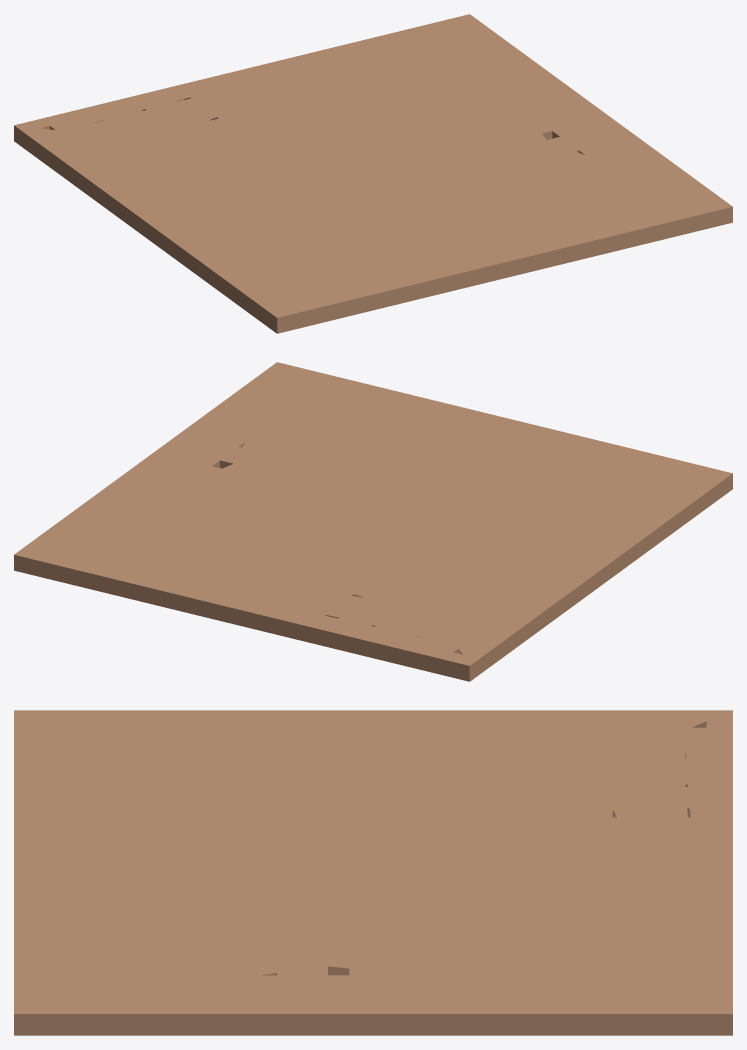
The model's file is spikeTrapBase.fbx.
3 views of the same model, one above another, from view 1: azimuth 30°, elevation 25°; view 2: azimuth 150°, elevation 25°; view 3: azimuth 270°, elevation 25° (orthographic). The views are drawn at different scales.
Visible parts, largest first — view 1: SpikePlat; view 2: SpikePlat; view 3: SpikePlat.
Boxes of the visible parts, bbox=[...] form: SpikePlat: bbox=[14, 14, 732, 333]; SpikePlat: bbox=[14, 362, 732, 681]; SpikePlat: bbox=[14, 710, 732, 1035].
Size of the model in its own units: 246 by 8.2 by 246.
